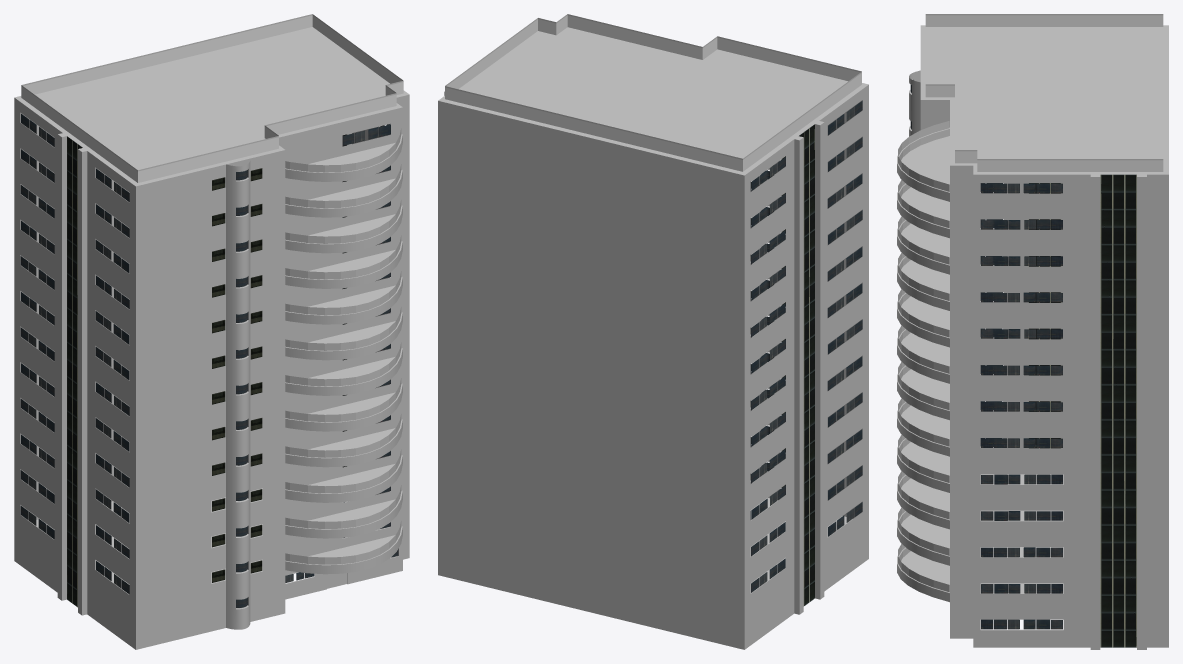
The picture shows the model from 3 angles, left to right: view 1: azimuth 30°, elevation 25°; view 2: azimuth 150°, elevation 25°; view 3: azimuth 270°, elevation 25°; orthographic projection. The views are drawn at different scales.
Visible parts, largest first — view 1: BR-020; view 2: BR-020; view 3: BR-020.
Part boxes in pixels (x1,y1,x2,y2): BR-020: [14, 14, 409, 649]; BR-020: [438, 14, 868, 649]; BR-020: [897, 14, 1168, 649].
Size of what is drawn, in the model's own units: 36.29 by 53.5 by 27.08.
